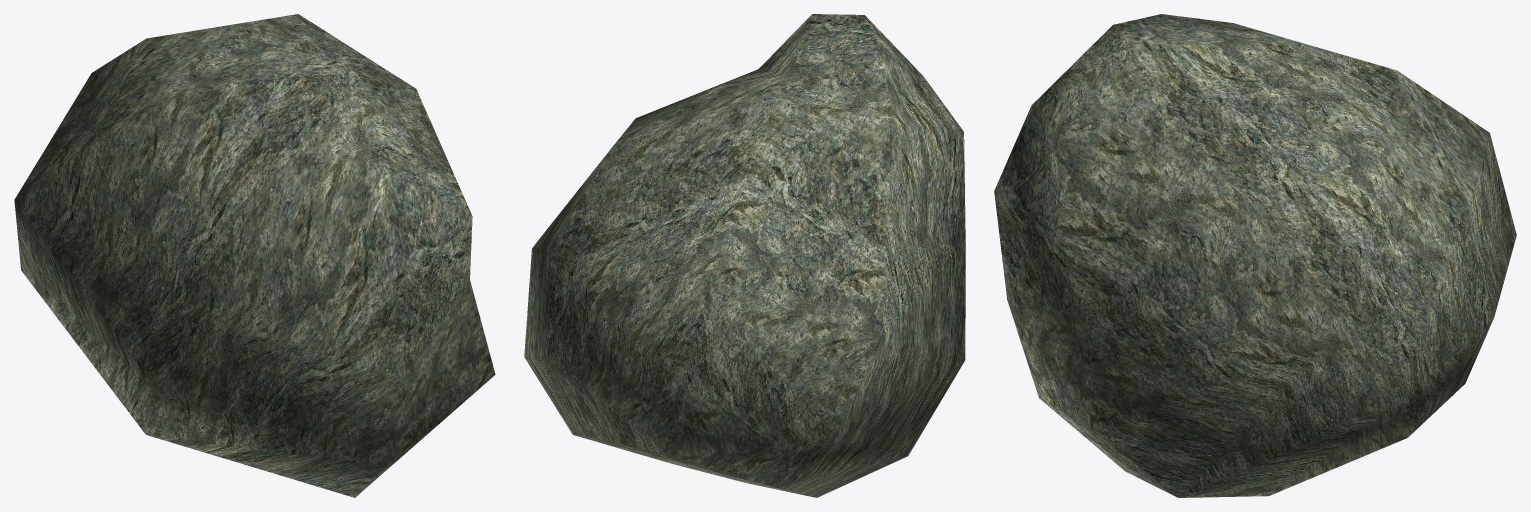
The model's file is mtns_rock_moss_a3_l0.fbx.
3 renders of one model, left to right at view 1: azimuth 30°, elevation 25°; view 2: azimuth 150°, elevation 25°; view 3: azimuth 270°, elevation 25°, orthographic. The views are drawn at different scales.
Parts seen in each view (by area): view 1: mesh_node; view 2: mesh_node; view 3: mesh_node.
Part boxes in pixels (x1,y1,x2,y2): mesh_node: [14, 14, 495, 497]; mesh_node: [524, 14, 965, 497]; mesh_node: [994, 14, 1516, 497].
Bounding box in the file's own units: 1.6 × 1.78 × 1.95.
Materials: 1 (1 with a texture image).
